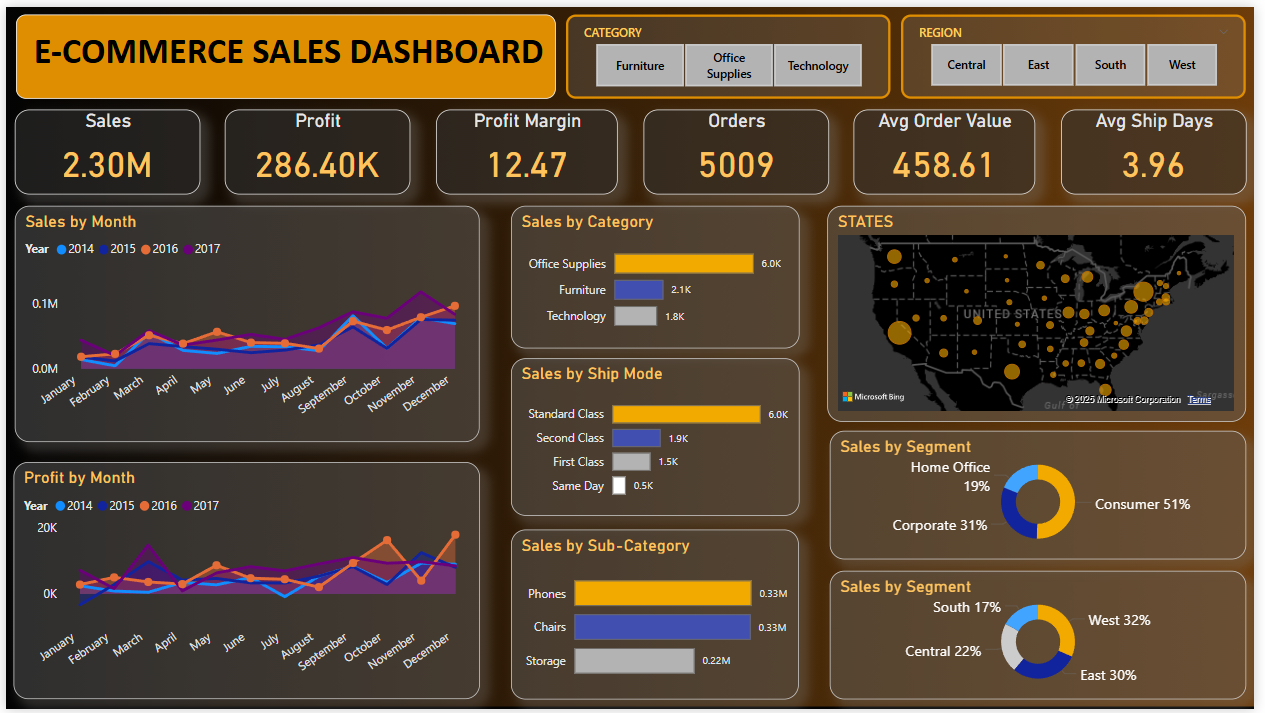

Layout of this report page (visuals, bound fields, positions):
{"tool":"powerbi","page":{"name":"Page 1","canvas":[1280,720],"ordinal":0},"visuals":[{"type":"card","title":"Sales","fields":{"Values":["Sum(Sample - Superstore.Sales)"]},"box":[8.8,105,190,87.5],"z":0,"group":"g1"},{"type":"slicer","fields":{"Values":["Sample - Superstore.Region"]},"box":[917.5,7.5,353.8,86.2],"z":0},{"type":"card","title":"Profit","fields":{"Values":["Sum(Sample - Superstore.Profit)"]},"box":[224.8,105,190,87.5],"z":1000,"group":"g1"},{"type":"slicer","fields":{"Values":["Sample - Superstore.Category"]},"box":[573.8,7.5,332.5,86.2],"z":1000},{"type":"card","title":"Orders","fields":{"Values":["Sample - Superstore.Orders"]},"box":[653,105,190,87.5],"z":2000,"group":"g1"},{"type":"textbox","box":[10,7.5,553.8,86.2],"z":2000},{"type":"card","title":"Avg Ship Days","fields":{"Values":["Avg(Sample - Superstore.Avg Ship Days)"]},"box":[1081.3,105,190,87.5],"z":3000,"group":"g1"},{"type":"clusteredBarChart","title":"Sales by Category","fields":{"Category":["Sample - Superstore.Category"],"Y":["CountNonNull(Sample - Superstore.Sales)"]},"box":[517.9,203.8,296.2,146.2],"z":3000},{"type":"card","title":"Profit Margin","fields":{"Values":["Sample - Superstore.Profit Margin %"]},"box":[440.8,105,186.2,87.5],"z":4000,"group":"g1"},{"type":"group","id":"g1","title":"Group 1","box":[8.8,105,1262.5,87.5],"z":4000},{"type":"card","title":"Avg Order Value","fields":{"Values":["Sample - Superstore.Avg Order Value"]},"box":[869,105,186.2,87.5],"z":5000,"group":"g1"},{"type":"clusteredBarChart","title":"Sales by Sub-Category","fields":{"Category":["Sample - Superstore.Sub-Category"],"Y":["Sum(Sample - Superstore.Sales)"]},"box":[518.2,536.4,295.5,174.2],"z":5000},{"type":"clusteredBarChart","title":"Sales by Ship Mode","fields":{"Category":["Sample - Superstore.Ship Mode"],"Y":["CountNonNull(Sample - Superstore.Sales)"]},"box":[517.9,360.3,296.2,161.5],"z":6000},{"type":"areaChart","title":"Sales  by Month","fields":{"Y":["Sum(Sample - Superstore.Sales)"],"Series":["Sample - Superstore.Custom order date.Variation.Date Hierarchy.Year"],"Category":["Sample - Superstore.Custom order date.Variation.Date Hierarchy.Month","Sample - Superstore.Custom order date.Variation.Date Hierarchy.Day"]},"box":[9,203.8,476.9,242.3],"z":7000},{"type":"areaChart","title":"Profit by Month","fields":{"Series":["Sample - Superstore.Custom order date.Variation.Date Hierarchy.Year"],"Category":["Sample - Superstore.Custom order date.Variation.Date Hierarchy.Month","Sample - Superstore.Custom order date.Variation.Date Hierarchy.Day"],"Y":["Sum(Sample - Superstore.Profit)"]},"box":[7.7,466.7,478.2,243.6],"z":8000},{"type":"map","title":"STATES","fields":{"Size":["Sum(Sample - Superstore.Sales)"],"Category":["Sample - Superstore.State"]},"box":[842.3,203.8,429.5,221.8],"z":9000},{"type":"donutChart","title":"Sales by Segment","fields":{"Category":["Sample - Superstore.Segment"],"Y":["Sum(Sample - Superstore.Sales)"]},"box":[844.9,434.6,426.9,132.1],"z":9001},{"type":"donutChart","title":"Sales by Segment","fields":{"Y":["Sum(Sample - Superstore.Sales)"],"Category":["Sample - Superstore.Region"]},"box":[844.9,578.2,426.9,132.1],"z":9002}]}

Visuals, with their boxes in screenshot pixels (x1, y1, x2, y2), scaled from the page's 1280x720 canvas onto the 1265x713 screenshot:
"Sales" card: rect(9, 104, 196, 191)
slicer - Sample - Superstore.Region: rect(907, 7, 1256, 93)
"Profit" card: rect(222, 104, 410, 191)
slicer - Sample - Superstore.Category: rect(567, 7, 896, 93)
"Orders" card: rect(645, 104, 833, 191)
textbox: rect(10, 7, 557, 93)
"Avg Ship Days" card: rect(1069, 104, 1256, 191)
"Sales by Category" clusteredBarChart: rect(512, 202, 805, 347)
"Profit Margin" card: rect(436, 104, 620, 191)
"Group 1" group: rect(9, 104, 1256, 191)
"Avg Order Value" card: rect(859, 104, 1043, 191)
"Sales by Sub-Category" clusteredBarChart: rect(512, 531, 804, 704)
"Sales by Ship Mode" clusteredBarChart: rect(512, 357, 805, 517)
"Sales  by Month" areaChart: rect(9, 202, 480, 442)
"Profit by Month" areaChart: rect(8, 462, 480, 703)
"STATES" map: rect(832, 202, 1257, 421)
"Sales by Segment" donutChart: rect(835, 430, 1257, 561)
"Sales by Segment" donutChart: rect(835, 573, 1257, 703)
